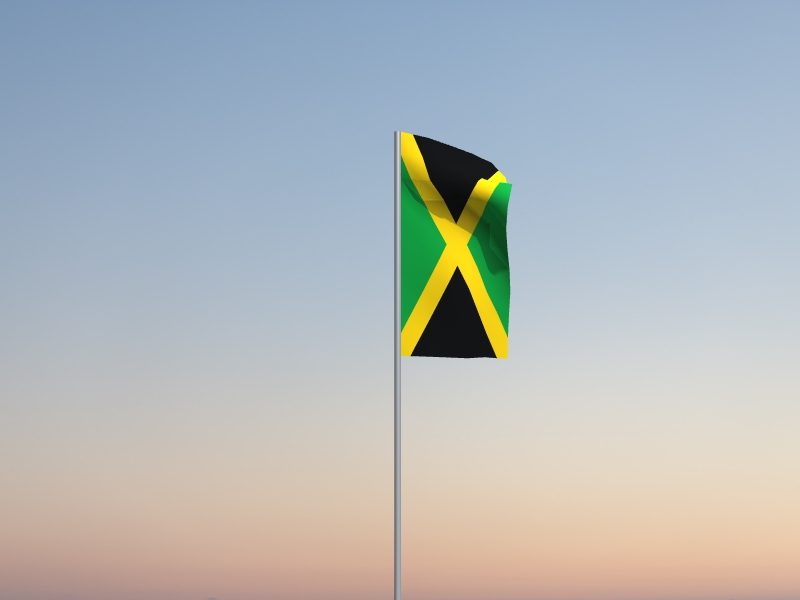jm: (401, 132, 514, 360)
